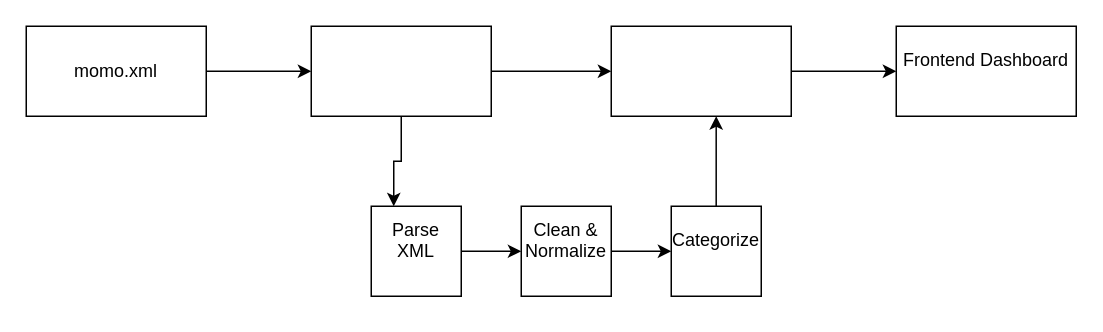
The diagram is 1103 pixels wide and 332 high, and some of its shapes have lost their labels. The box of each missing label's shape, as (x1, y1, x2, y2) in pixels:
ETL Pipeline: (310, 25, 491, 116)
SQLite Database: (610, 25, 791, 116)
